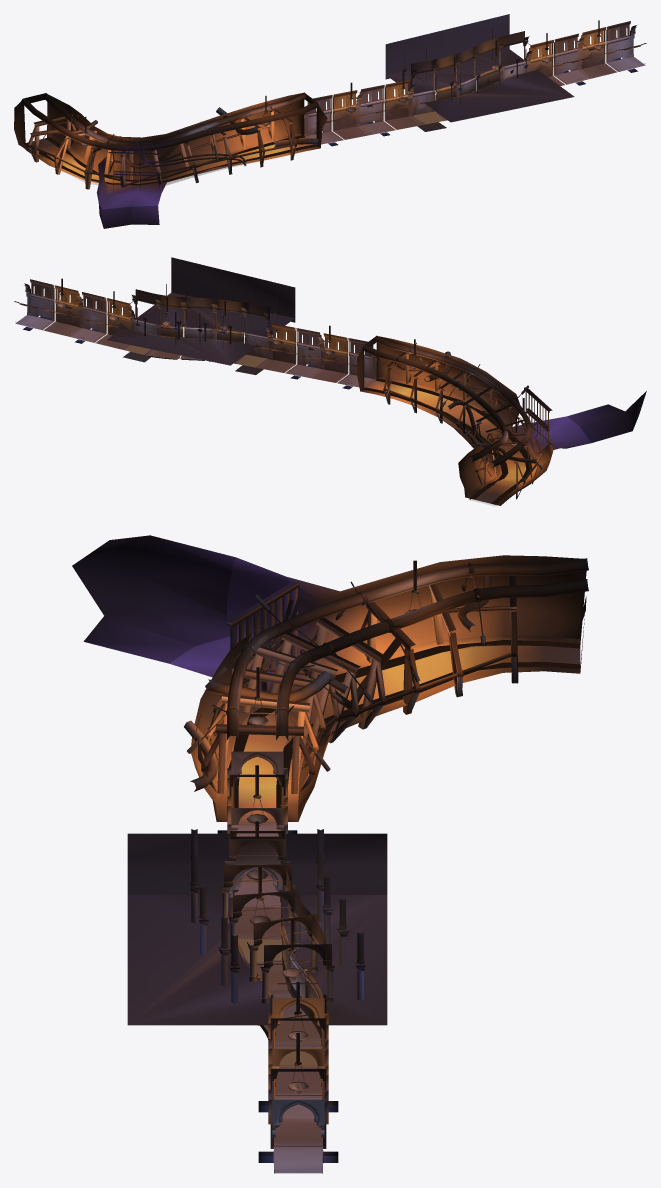
Rendered from 04Mine.gltf.
3 views of the same model, one above another, from view 1: azimuth 30°, elevation 25°; view 2: azimuth 150°, elevation 25°; view 3: azimuth 270°, elevation 25° (orthographic). The views are drawn at different scales.
Visible parts, largest first — view 1: stg033_o09_Mesh_0002, stg033_o08_Mesh_0017, stg033_o08_Mesh_0001, stg033_o08_Mesh_0037, stg033_o09_Mesh_0001, stg033_o08_Mesh_0045, stg033_o08_Mesh_0011, stg033_o08_Mesh_0021, stg033_o08_Mesh_0043, stg033_o08_Mesh_0031, stg033_o09_Mesh_0006, stg033_g09_Mesh_0000 (+11 smaller); view 2: stg033_o09_Mesh_0002, stg033_o08_Mesh_0001, stg033_o08_Mesh_0017, stg033_o08_Mesh_0037, stg033_o09_Mesh_0001, stg033_o09_Mesh_0006, stg033_o08_Mesh_0045, stg033_o08_Mesh_0021, stg033_o08_Mesh_0011, stg033_g09_Mesh_0000, stg033_o08_Mesh_0043, stg033_o08_Mesh_0031 (+9 smaller); view 3: stg033_o09_Mesh_0002, stg033_o08_Mesh_0017, stg033_o08_Mesh_0037, stg033_o09_Mesh_0001, stg033_o08_Mesh_0001, stg033_o09_Mesh_0006, stg033_o08_Mesh_0045, stg033_o08_Mesh_0007, stg033_o08_Mesh_0043, stg033_g09_Mesh_0000, stg033_o08_Mesh_0012, stg033_o08_Mesh_0021 (+8 smaller).
Boxes of the visible parts, bbox=[...] form: stg033_o09_Mesh_0002: bbox=[14, 93, 327, 228]; stg033_o08_Mesh_0017: bbox=[307, 24, 629, 122]; stg033_o08_Mesh_0001: bbox=[308, 14, 629, 133]; stg033_o08_Mesh_0037: bbox=[27, 26, 619, 191]; stg033_o09_Mesh_0001: bbox=[21, 92, 318, 168]; stg033_o08_Mesh_0045: bbox=[309, 57, 640, 144]; stg033_o08_Mesh_0011: bbox=[304, 33, 646, 123]; stg033_o08_Mesh_0021: bbox=[308, 26, 634, 140]; stg033_o08_Mesh_0043: bbox=[308, 25, 641, 140]; stg033_o08_Mesh_0031: bbox=[304, 21, 645, 136]; stg033_o09_Mesh_0006: bbox=[31, 137, 313, 185]; stg033_g09_Mesh_0000: bbox=[23, 135, 317, 185]; stg033_o09_Mesh_0002: bbox=[357, 336, 646, 505]; stg033_o08_Mesh_0001: bbox=[31, 257, 372, 376]; stg033_o08_Mesh_0017: bbox=[31, 283, 373, 365]; stg033_o08_Mesh_0037: bbox=[41, 285, 553, 499]; stg033_o09_Mesh_0001: bbox=[361, 335, 536, 467]; stg033_o09_Mesh_0006: bbox=[366, 380, 526, 503]; stg033_o08_Mesh_0045: bbox=[20, 316, 371, 387]; stg033_o08_Mesh_0021: bbox=[26, 284, 372, 383]; stg033_o08_Mesh_0011: bbox=[14, 291, 377, 366]; stg033_g09_Mesh_0000: bbox=[363, 378, 531, 504]; stg033_o08_Mesh_0043: bbox=[19, 284, 372, 384]; stg033_o08_Mesh_0031: bbox=[15, 279, 376, 379]; stg033_o09_Mesh_0002: bbox=[72, 535, 586, 821]; stg033_o08_Mesh_0017: bbox=[127, 829, 387, 1025]; stg033_o08_Mesh_0037: bbox=[187, 562, 518, 1148]; stg033_o09_Mesh_0001: bbox=[184, 558, 588, 791]; stg033_o08_Mesh_0001: bbox=[127, 751, 387, 1155]; stg033_o09_Mesh_0006: bbox=[217, 640, 580, 821]; stg033_o08_Mesh_0045: bbox=[234, 827, 322, 1168]; stg033_o08_Mesh_0007: bbox=[127, 865, 387, 887]; stg033_o08_Mesh_0043: bbox=[224, 768, 331, 1169]; stg033_g09_Mesh_0000: bbox=[227, 640, 580, 821]; stg033_o08_Mesh_0012: bbox=[127, 830, 387, 987]; stg033_o08_Mesh_0021: bbox=[190, 754, 364, 1163].
Size of the model in its own units: 163 by 22.32 by 63.13.
